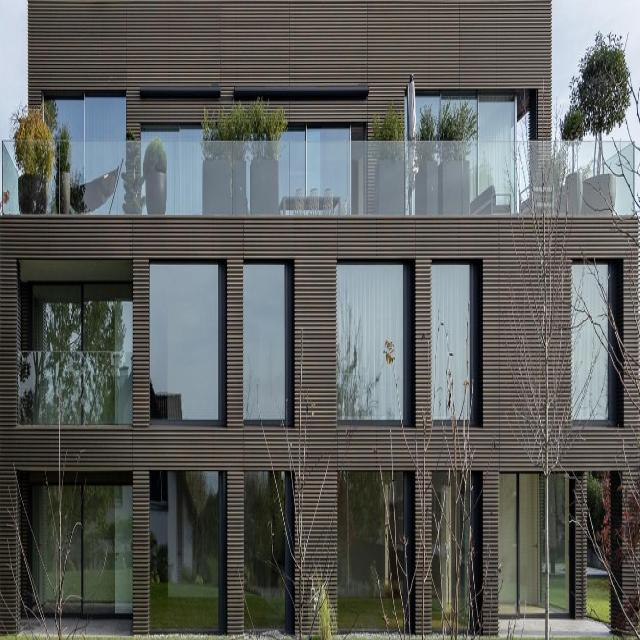door: (39, 465, 132, 619), (501, 469, 574, 620)
railing: (2, 135, 635, 221), (18, 350, 132, 425)
window: (151, 469, 227, 639), (148, 263, 228, 421), (339, 471, 412, 639), (338, 272, 412, 419), (245, 474, 295, 638), (431, 470, 480, 634), (245, 256, 290, 423), (434, 267, 478, 417), (33, 282, 131, 348), (571, 269, 609, 424), (408, 94, 518, 134), (42, 95, 127, 135)
